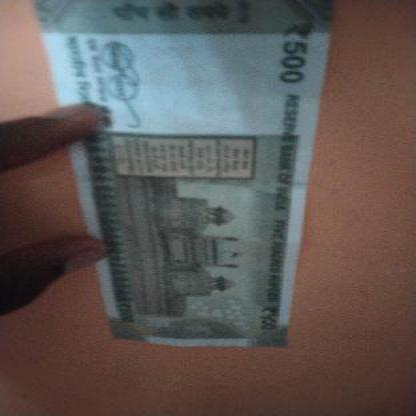New500Back: (36, 6, 314, 346)
